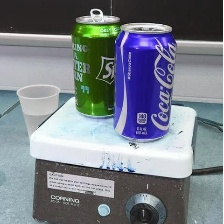can: (112, 21, 181, 144), (70, 7, 123, 120)
glass: (14, 80, 62, 140)
